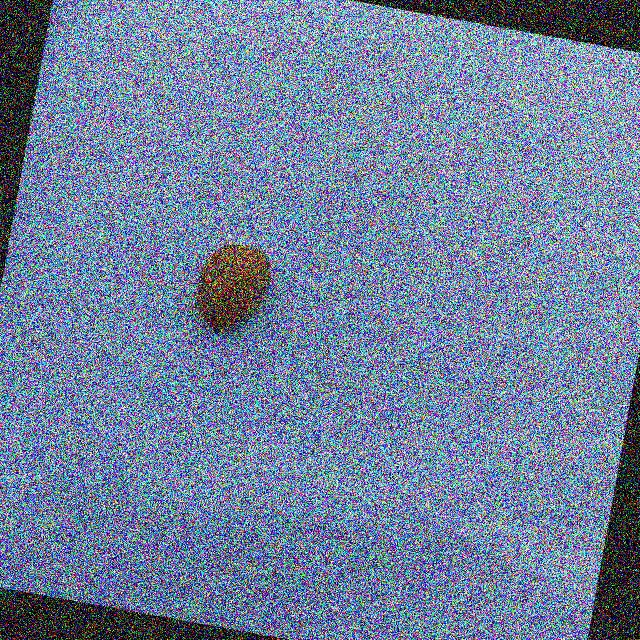grade2: (187, 235, 282, 344)
